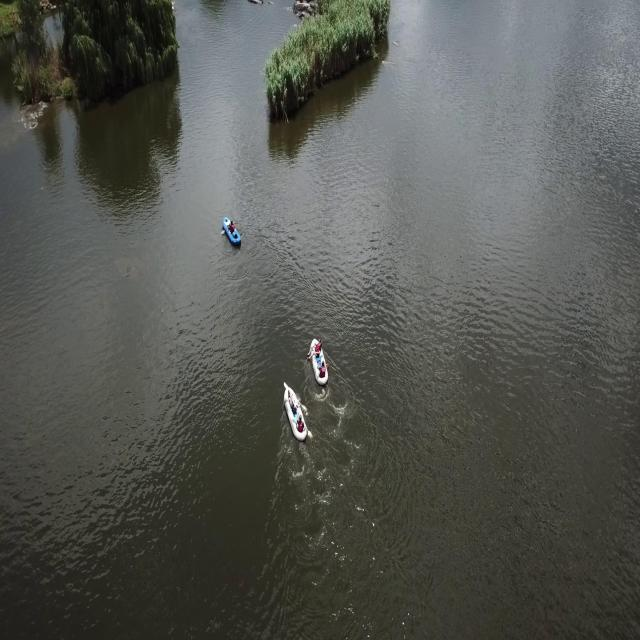kayak: (281, 378, 313, 446), (304, 331, 330, 391), (220, 214, 244, 252)
